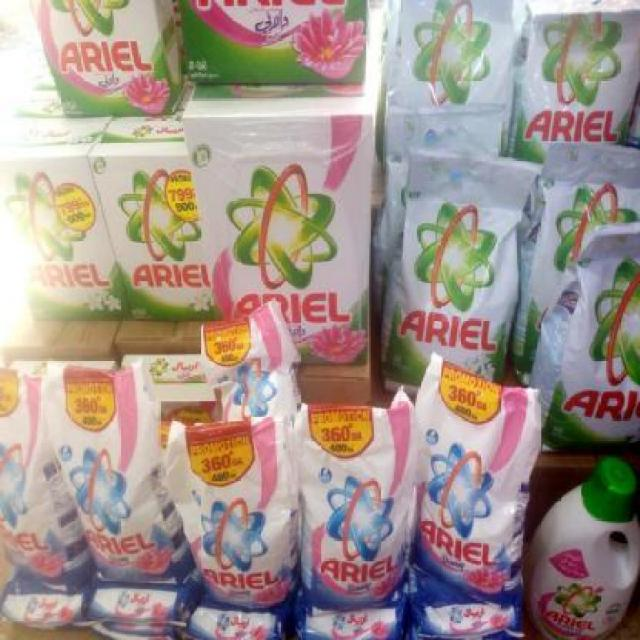Detergent: (194, 94, 361, 317), (412, 352, 536, 598), (386, 164, 512, 384), (48, 362, 164, 583), (5, 102, 116, 326), (178, 401, 294, 607), (298, 397, 416, 598), (97, 118, 205, 320), (506, 0, 640, 162), (530, 457, 639, 638), (546, 239, 640, 447), (43, 0, 182, 122), (2, 367, 76, 588)
